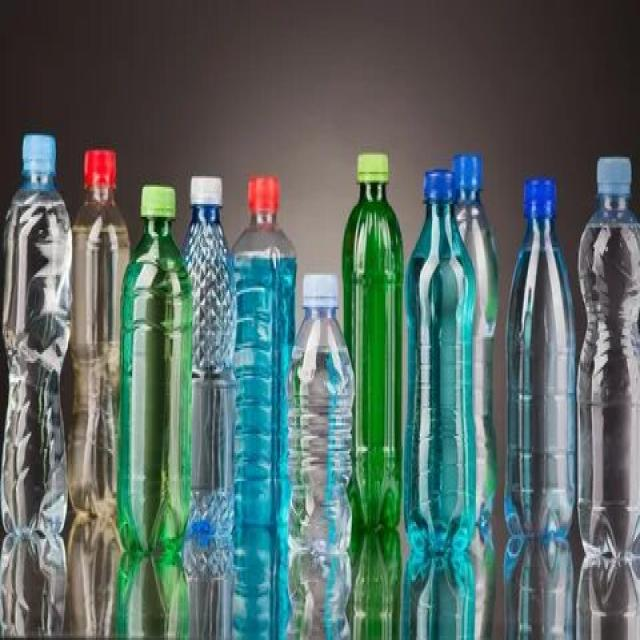blue: (578, 195, 640, 557), (508, 210, 575, 543), (183, 207, 235, 545)
green: (119, 218, 191, 560), (344, 182, 403, 535)
